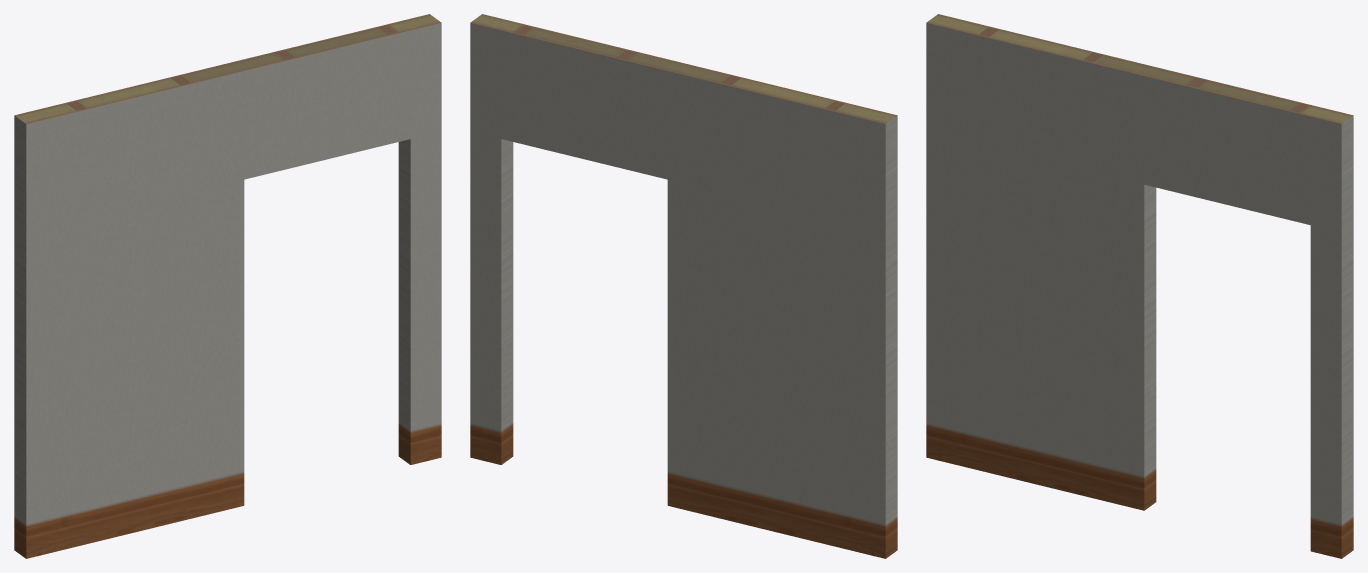
Rendered from wall4_3.fbx.
3 views of the same model, side by side, from view 1: azimuth 30°, elevation 25°; view 2: azimuth 150°, elevation 25°; view 3: azimuth 330°, elevation 25° (orthographic).
Parts seen in each view (by area): view 1: wall4_white_c; view 2: wall4_white_c; view 3: wall4_white_c.
Boxes of the visible parts, x1,y1,x2,y2 form: wall4_white_c: (14,14,441,558); wall4_white_c: (470,14,897,558); wall4_white_c: (926,14,1353,558).
Bounding box in the file's own units: 400 × 400 × 20.
